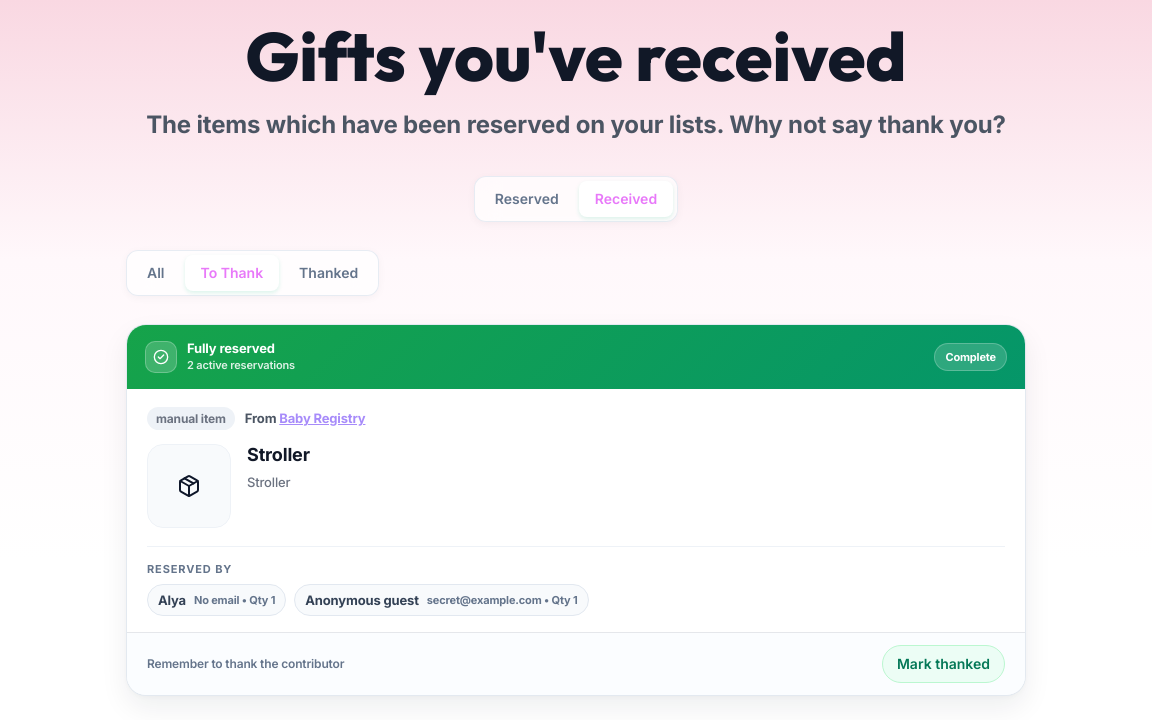
GiftReceived › uses distinct status styles for received and reserved cards
This screenshot has width=1152, height=720.
Expected: the text "Fully reserved" is shown, [187,340,275,356]
Click the button "Reserved".
click(527, 199)  # box [479,181,575,217]
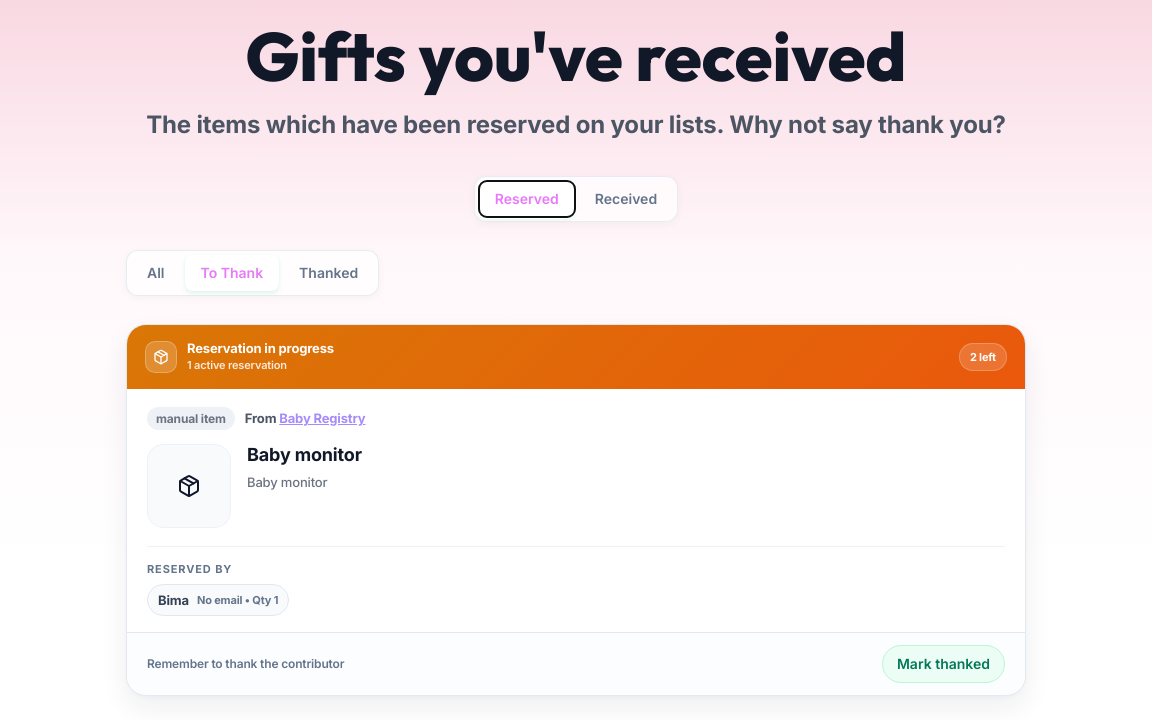
Result: the text "Reservation in progress" is shown at [187,341,334,356]
